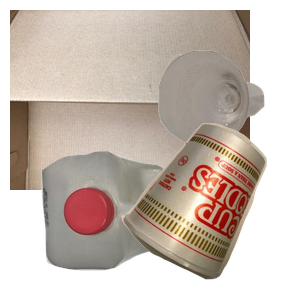cardboard: (10, 10, 250, 190)
glass: (156, 48, 300, 189)
plastic: (39, 149, 203, 300)
trash: (119, 121, 300, 300)
